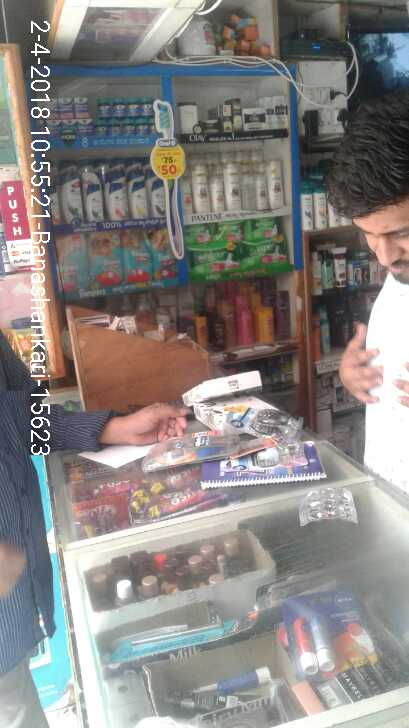vicks: (100, 99, 159, 136), (43, 96, 90, 136)
